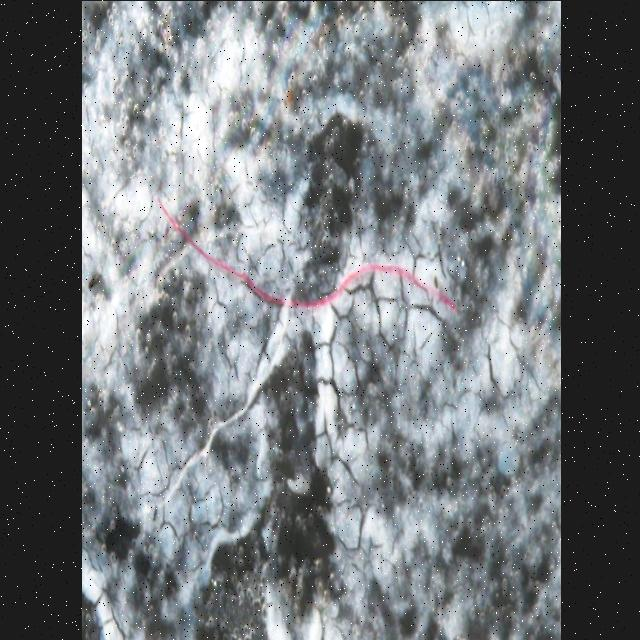Fibre: (148, 190, 458, 320)
